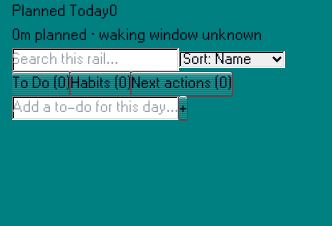
Test: PlannedTasksSidebar › adds a day to-do that Home/To-Do lists for the same date
Type "text linda" into the field labelled "Add a to-do for this day" at (96, 108), box x1=12 y1=96 x2=179 y2=120
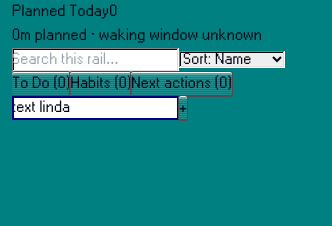
Click the button named "Add to-do" at (183, 108), box x1=179 y1=96 x2=187 y2=120
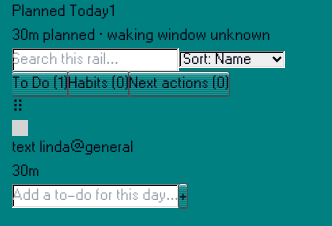
Expected: the text "text linda" is shown, x1=12 y1=140 x2=70 y2=155
